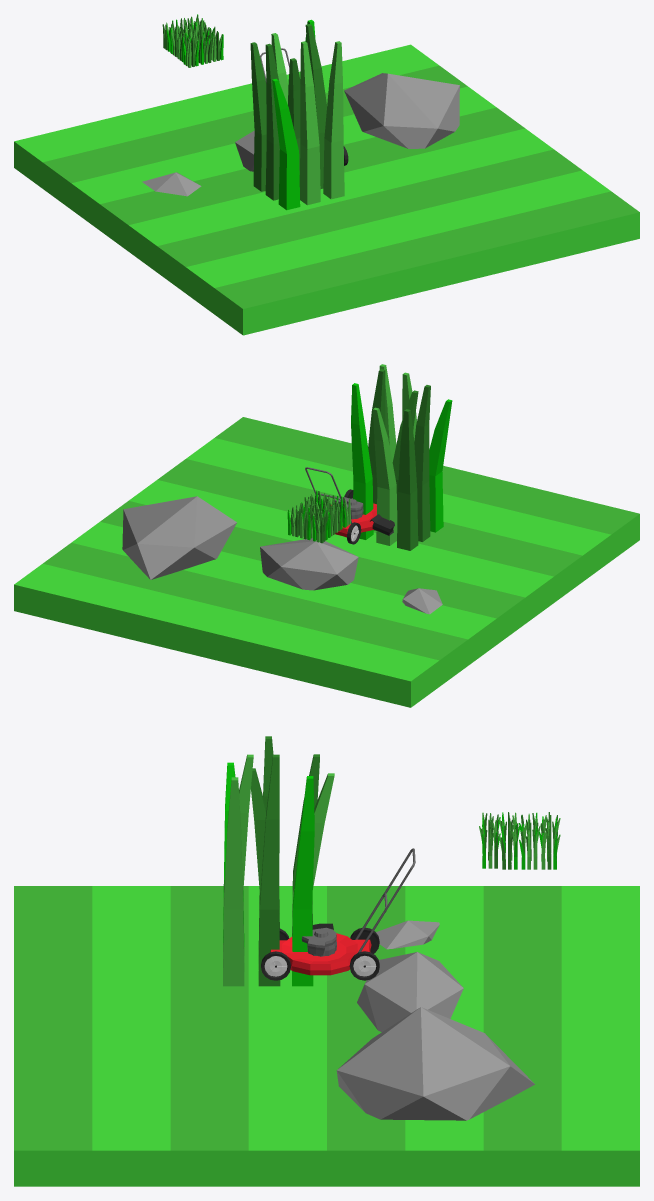
The model's file is Mower.glb.
3 renders of one model, top to bottom at view 1: azimuth 30°, elevation 25°; view 2: azimuth 150°, elevation 25°; view 3: azimuth 270°, elevation 25°, orthographic. The views are drawn at different scales.
Parts seen in each view (by area): view 1: Plane, Icosphere.001, Cube.007, Cube.008, Cube.006, Cube, Cube.005, Cube.003, Cube.100, Cube.004, Icosphere.002, Cube.016 (+3 smaller); view 2: Plane, Icosphere.001, Icosphere, Cube, Cube.001, Cube.002, Cube.005, Cube.006, Cylinder.001, Cube.100, Cube.003, Icosphere.002 (+4 smaller); view 3: Plane, Icosphere.001, Icosphere, Cube.008, Cylinder.001, Cube.003, Cube.002, Cube.016, Icosphere.002, Cube.004, Cube.007, Cube.001 (+4 smaller).
Part boxes in pixels (box(x1,y1,x2,y2)): Plane: box(14, 44, 639, 335); Icosphere.001: box(344, 73, 459, 148); Cube.007: box(299, 41, 320, 205); Cube.008: box(323, 41, 344, 199); Cube.006: box(272, 78, 300, 210); Cube: box(250, 42, 266, 191); Cube.005: box(265, 43, 279, 200); Cube.003: box(305, 24, 326, 188); Cube.100: box(162, 20, 198, 67); Cube.004: box(288, 58, 300, 174); Icosphere.002: box(142, 172, 201, 196); Cube.016: box(187, 14, 223, 61); Plane: box(14, 417, 639, 707); Icosphere.001: box(122, 496, 236, 579); Icosphere: box(260, 538, 358, 590); Cube: box(397, 409, 418, 550); Cube.001: box(373, 407, 397, 545); Cube.002: box(351, 383, 373, 539); Cube.005: box(414, 385, 430, 541); Cube.006: box(429, 399, 452, 532); Cylinder.001: box(305, 467, 394, 537); Cube.100: box(312, 496, 350, 543); Cube.003: box(368, 369, 385, 530); Icosphere.002: box(402, 588, 442, 614); Plane: box(14, 886, 639, 1186); Icosphere.001: box(336, 1007, 534, 1120); Icosphere: box(357, 952, 463, 1031); Cube.008: box(223, 777, 244, 986); Cylinder.001: box(270, 848, 415, 975); Cube.003: box(258, 754, 280, 986); Cube.002: box(292, 776, 314, 986); Cube.016: box(482, 828, 560, 869); Icosphere.002: box(376, 920, 439, 949); Cube.004: box(251, 768, 279, 969); Cube.007: box(223, 754, 253, 962); Cube.001: box(292, 773, 334, 932).
Bounding box in the file's own units: 16 × 7.73 × 16.
